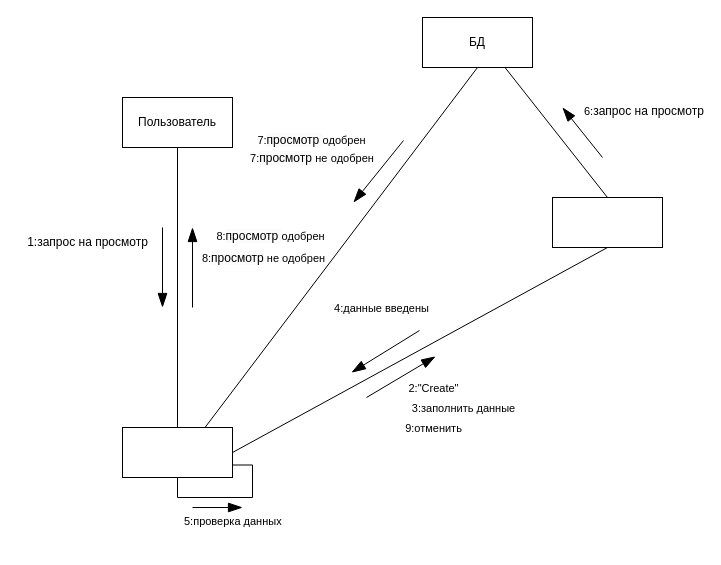
Some shapes in this 721 by 565 pixel diagram are drawn without their labels. The shapes that lost their labels are listed below. From the top down, each one's centre as x and y in pixels, then its label:
the point at 607,222: Фильм/Сериал
the point at 177,452: Система
